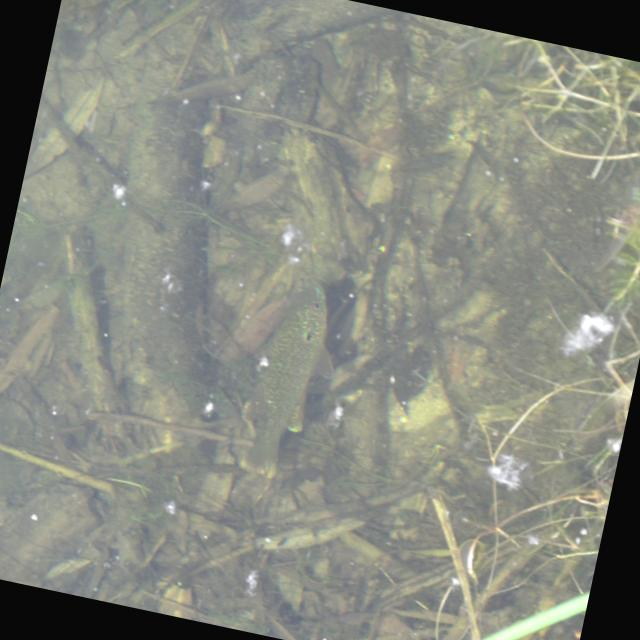Gunes Levregi: (228, 270, 354, 490)
